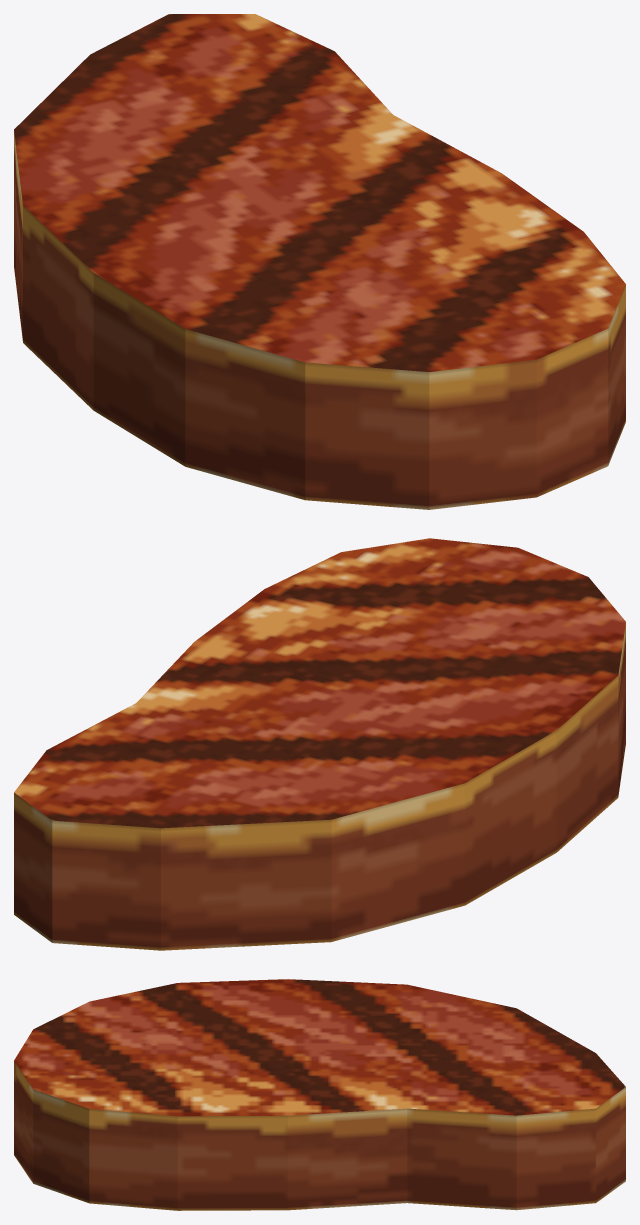
Rendered from cookedsteak.fbx.
3 views of the same model, one above another, from view 1: azimuth 30°, elevation 25°; view 2: azimuth 150°, elevation 25°; view 3: azimuth 270°, elevation 25° (orthographic). The views are drawn at different scales.
Parts seen in each view (by area): view 1: Cylinder.004; view 2: Cylinder.004; view 3: Cylinder.004.
Part boxes in pixels (x1,y1,x2,y2): Cylinder.004: (14, 14, 625, 509); Cylinder.004: (14, 538, 625, 950); Cylinder.004: (14, 979, 625, 1210).
Size of the model in its own units: 160 by 51.35 by 301.
